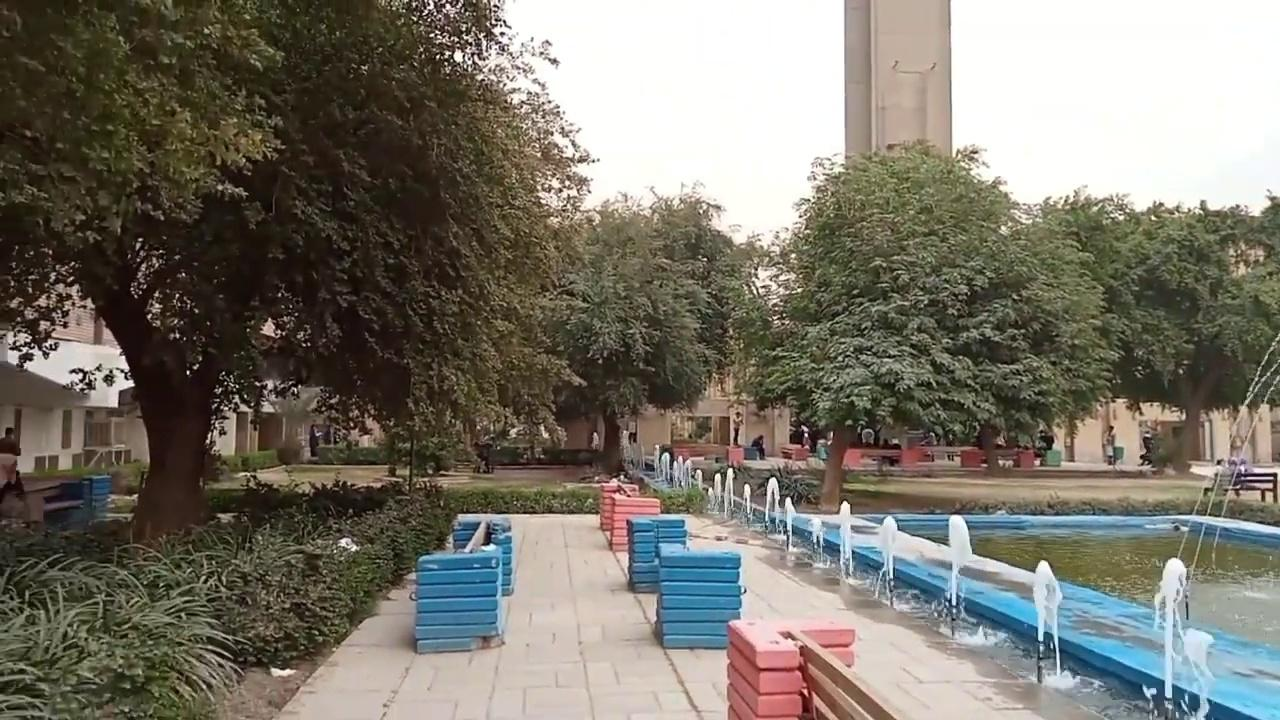fountain: (622, 442, 1278, 718), (1151, 556, 1190, 711), (1030, 558, 1074, 689), (932, 513, 973, 624)
person: (0, 426, 23, 502), (474, 439, 492, 473), (1232, 457, 1248, 494), (1103, 425, 1115, 466), (751, 434, 765, 460), (815, 436, 828, 462), (309, 424, 319, 456)
tree: (0, 0, 598, 545), (743, 137, 1109, 510), (1028, 186, 1279, 476), (543, 180, 767, 478), (1010, 185, 1137, 465)
